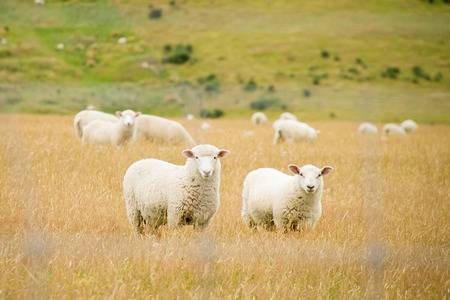sheep: (120, 142, 230, 232), (241, 153, 336, 232), (82, 109, 142, 147), (138, 109, 195, 146), (269, 118, 323, 147), (381, 119, 404, 137), (356, 121, 380, 137), (248, 110, 270, 127), (402, 115, 420, 134)
